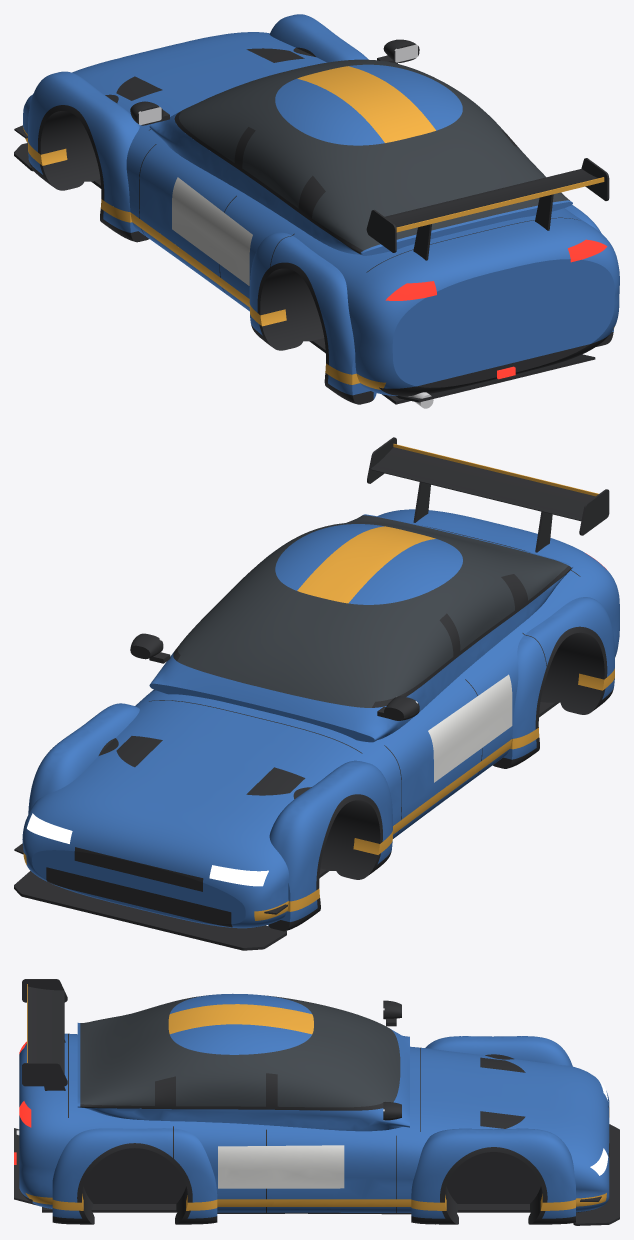
File: body.glb
The picture shows the model from 3 angles, top to bottom: view 1: azimuth 30°, elevation 25°; view 2: azimuth 150°, elevation 25°; view 3: azimuth 270°, elevation 25°; orthographic projection. The views are drawn at different scales.
Parts seen in each view (by area): view 1: Livery, Glass, Carbon, Accent, LiveryWhite, Light, Metal; view 2: Livery, Carbon, Glass, Accent, LiveryWhite, Headlight; view 3: Livery, Carbon, Glass, Accent, LiveryWhite.
Part boxes in pixels (x1,y1,x2,y2): Livery: (23, 14, 619, 399); Glass: (178, 59, 568, 250); Carbon: (14, 39, 613, 404); Accent: (23, 66, 615, 389); LiveryWhite: (172, 177, 252, 285); Light: (385, 239, 607, 379); Metal: (138, 44, 433, 408); Livery: (22, 509, 619, 928); Carbon: (14, 437, 613, 950); Glass: (177, 515, 568, 707); Accent: (23, 444, 614, 920); LiveryWhite: (428, 674, 512, 782); Headlight: (27, 813, 268, 886); Livery: (19, 993, 609, 1218); Carbon: (14, 979, 619, 1225); Glass: (80, 995, 400, 1107); Accent: (25, 984, 606, 1210); LiveryWhite: (218, 1145, 344, 1188).
Bounding box in the file's own units: 1.98 × 1.34 × 4.56.
